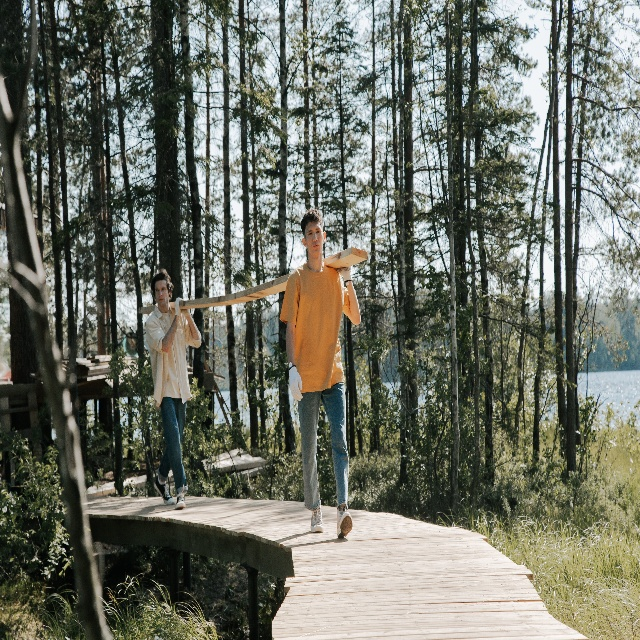Guantes: (288, 365, 303, 404), (337, 266, 353, 283), (174, 297, 183, 316), (181, 308, 191, 318)
